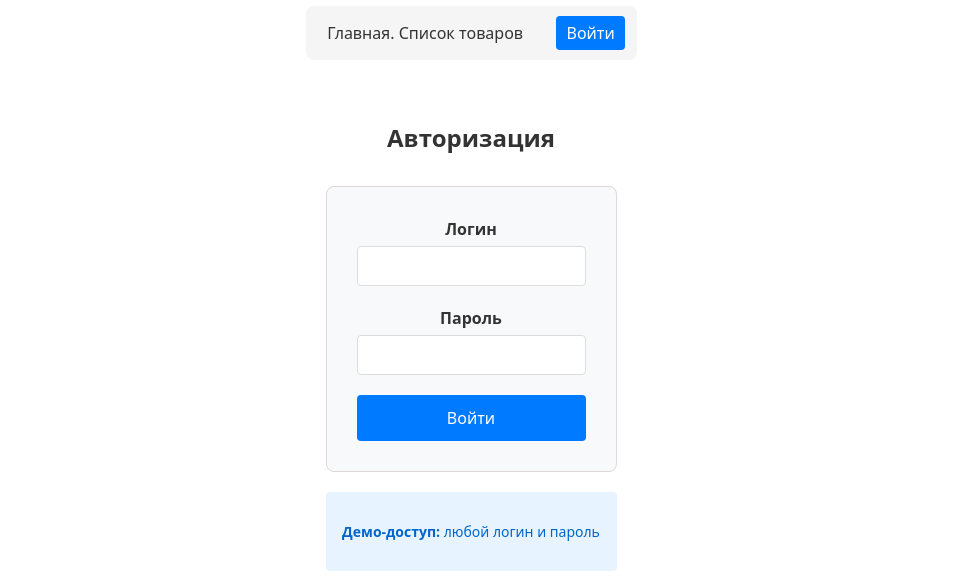
Test: Навигация по приложению › должна показывать разные меню для авторизованных и неавторизованных пользователей
Type "testuser" into the field named "authLogin". click: (472, 266)
box: [357, 246, 586, 286]
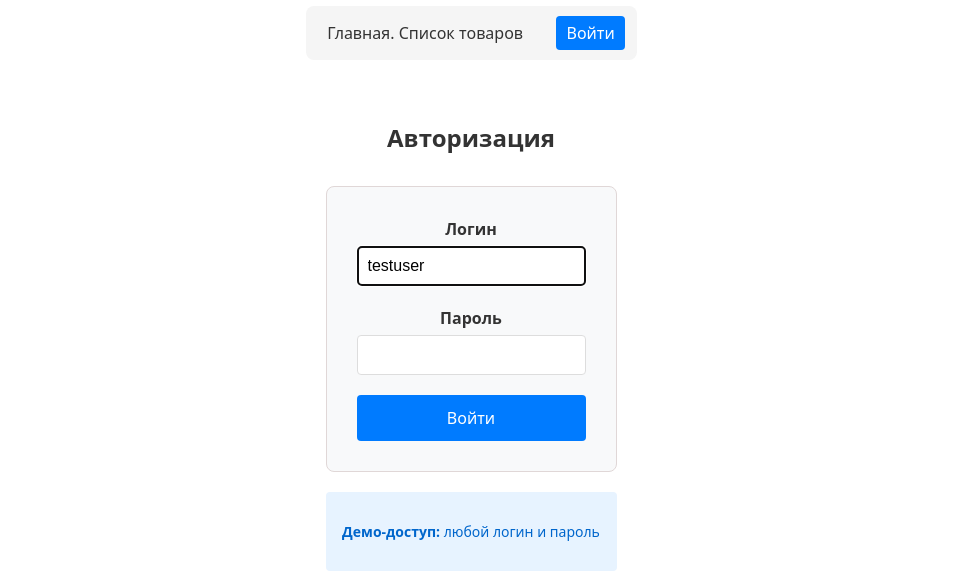
Type "password123" into the password field named "authPassword". click: (472, 355)
box: [357, 335, 586, 375]
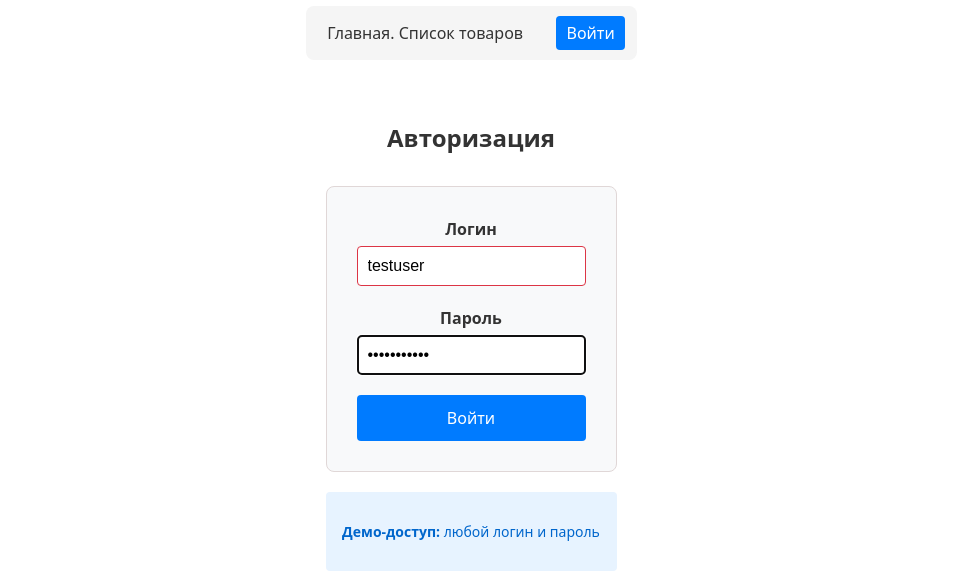
Click the submit button. click: (472, 418)
box: [357, 395, 586, 441]
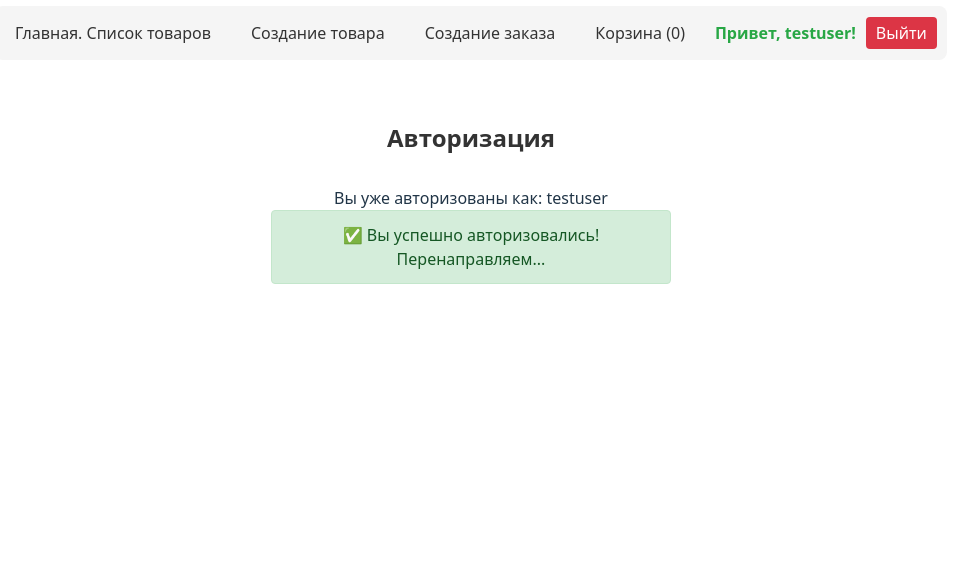
Check: the text "Вы успешно авторизовались" is shown, box [343, 224, 600, 270]
Check: the link to "/create" is shown, box [241, 16, 395, 50]
Check: the link to "/cart" is shown, box [595, 22, 685, 44]
